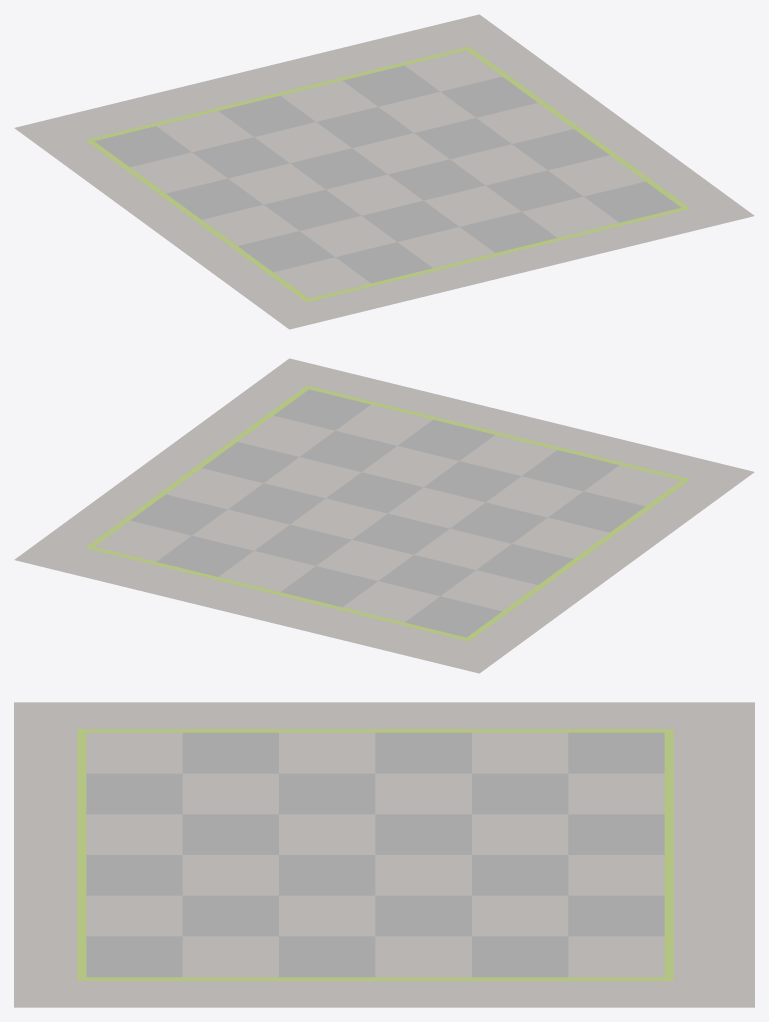
The model's file is sol.fbx.
The picture shows the model from 3 angles, top to bottom: view 1: azimuth 30°, elevation 25°; view 2: azimuth 150°, elevation 25°; view 3: azimuth 270°, elevation 25°; orthographic projection. The views are drawn at different scales.
Parts seen in each view (by area): view 1: sol; view 2: sol; view 3: sol.
Boxes of the visible parts, left/top/right/bottom form: sol: left=14, top=14, right=754, bottom=329; sol: left=14, top=358, right=754, bottom=673; sol: left=14, top=702, right=754, bottom=1007.
Bounding box in the file's own units: 2000 × 0 × 2050.
